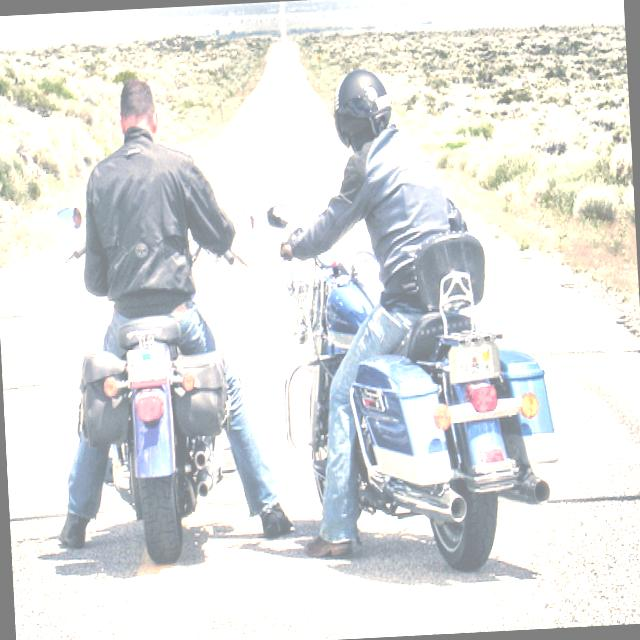Vehicle: (274, 228, 562, 590), (74, 313, 240, 572)
